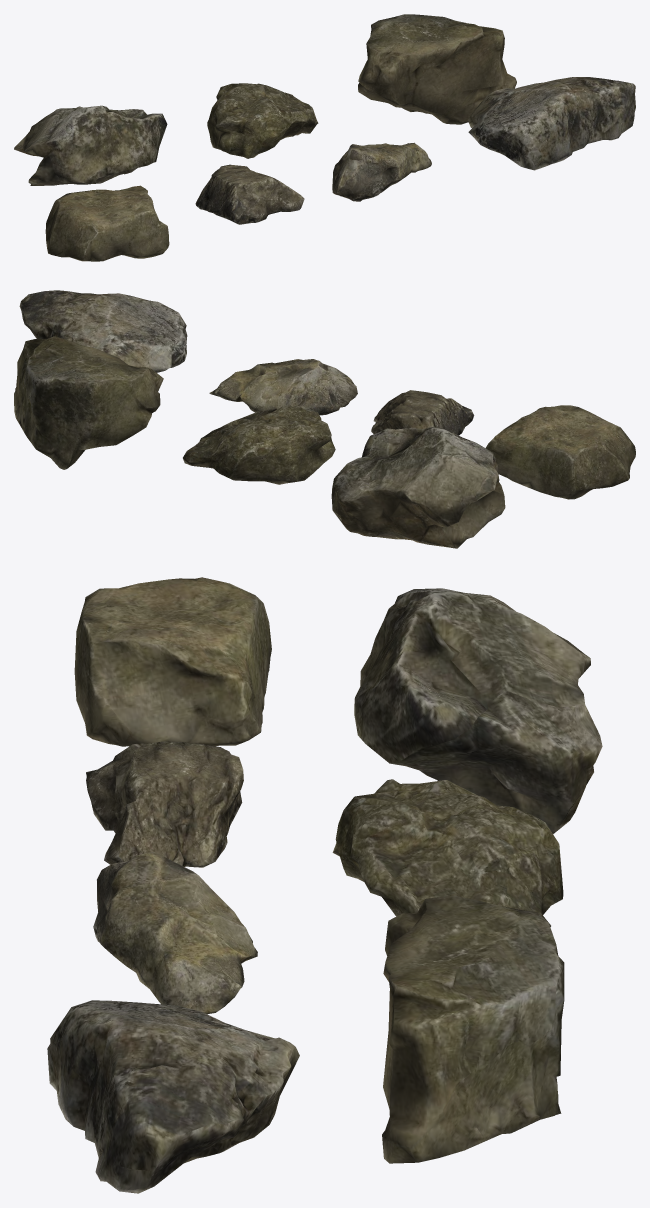
Rendered from rock-moss-far.glb.
The picture shows the model from 3 angles, top to bottom: view 1: azimuth 30°, elevation 25°; view 2: azimuth 150°, elevation 25°; view 3: azimuth 270°, elevation 25°; orthographic projection. The views are drawn at different scales.
Visible parts, largest first — view 1: rock_moss_set_02_rock13, rock_moss_set_02_rock10, rock_moss_set_02_rock11, rock_moss_set_02_rock07, rock_moss_set_02_rock12, rock_moss_set_02_rock08, rock_moss_set_02_rock09; view 2: rock_moss_set_02_rock11, rock_moss_set_02_rock13, rock_moss_set_02_rock07, rock_moss_set_02_rock10, rock_moss_set_02_rock12, rock_moss_set_02_rock09, rock_moss_set_02_rock08; view 3: rock_moss_set_02_rock11, rock_moss_set_02_rock13, rock_moss_set_02_rock10, rock_moss_set_02_rock07, rock_moss_set_02_rock12, rock_moss_set_02_rock09, rock_moss_set_02_rock08.
Boxes of the visible parts, x1,y1,x2,y2 form: rock_moss_set_02_rock13: [358, 14, 516, 124]; rock_moss_set_02_rock10: [468, 77, 635, 170]; rock_moss_set_02_rock11: [14, 105, 167, 185]; rock_moss_set_02_rock07: [45, 185, 169, 261]; rock_moss_set_02_rock12: [207, 83, 318, 158]; rock_moss_set_02_rock08: [195, 164, 304, 224]; rock_moss_set_02_rock09: [332, 142, 431, 201]; rock_moss_set_02_rock11: [331, 426, 505, 548]; rock_moss_set_02_rock13: [14, 336, 163, 469]; rock_moss_set_02_rock07: [486, 405, 635, 499]; rock_moss_set_02_rock10: [19, 290, 187, 372]; rock_moss_set_02_rock12: [183, 406, 335, 484]; rock_moss_set_02_rock09: [209, 359, 357, 415]; rock_moss_set_02_rock08: [371, 390, 474, 435]; rock_moss_set_02_rock11: [354, 588, 602, 833]; rock_moss_set_02_rock13: [382, 895, 564, 1163]; rock_moss_set_02_rock10: [47, 1000, 299, 1193]; rock_moss_set_02_rock07: [74, 577, 271, 746]; rock_moss_set_02_rock12: [332, 779, 563, 926]; rock_moss_set_02_rock09: [93, 852, 257, 1014]; rock_moss_set_02_rock08: [86, 741, 243, 867].
Bounding box in the file's own units: 8.28 × 1.36 × 3.41.
1 material, 1 textured.
